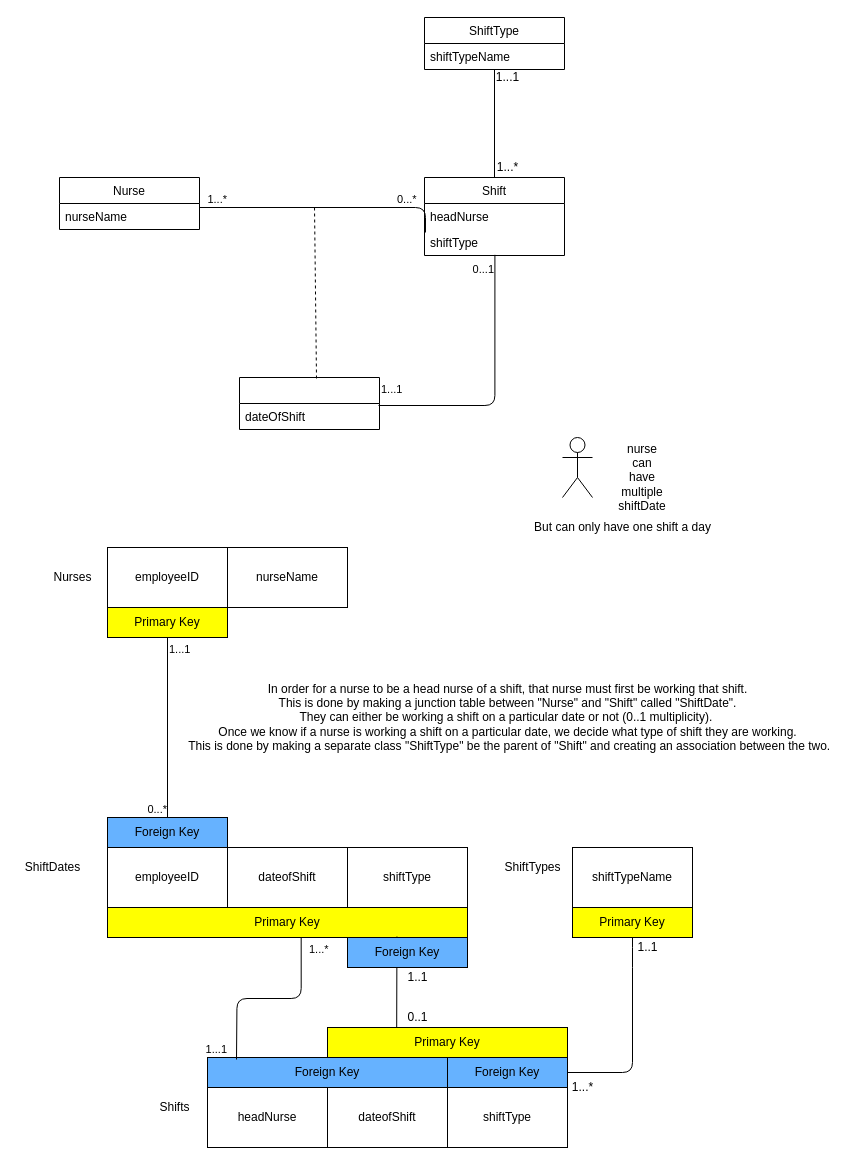
Image size: 854x1165. Some labels were removed from this diagram. Here are the shapes that lost their labels. From the top down, the box of each, then its label:
(238, 376, 380, 430): ShiftDate
(562, 436, 592, 498): Actor
